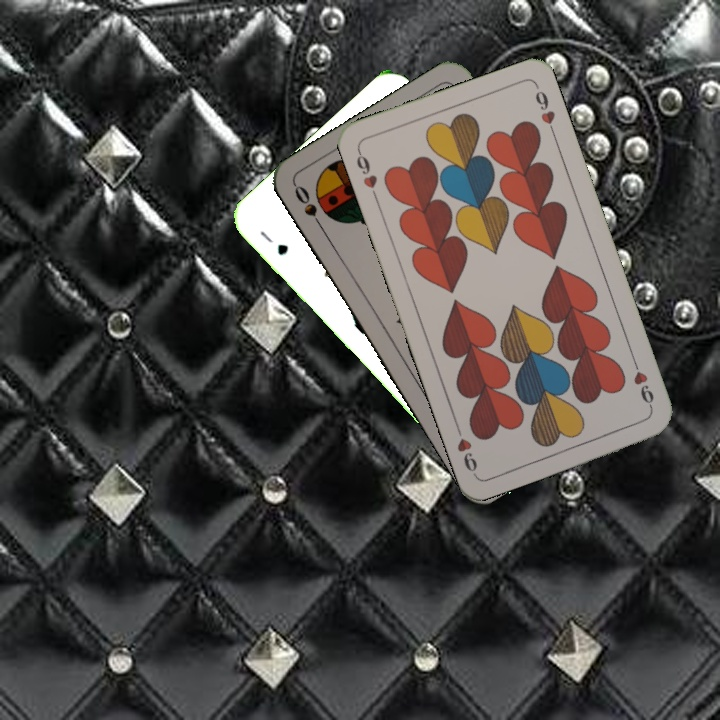GU: (255, 226, 291, 258)
H9: (352, 145, 381, 203), (628, 355, 657, 412)
SO: (290, 181, 328, 235)
